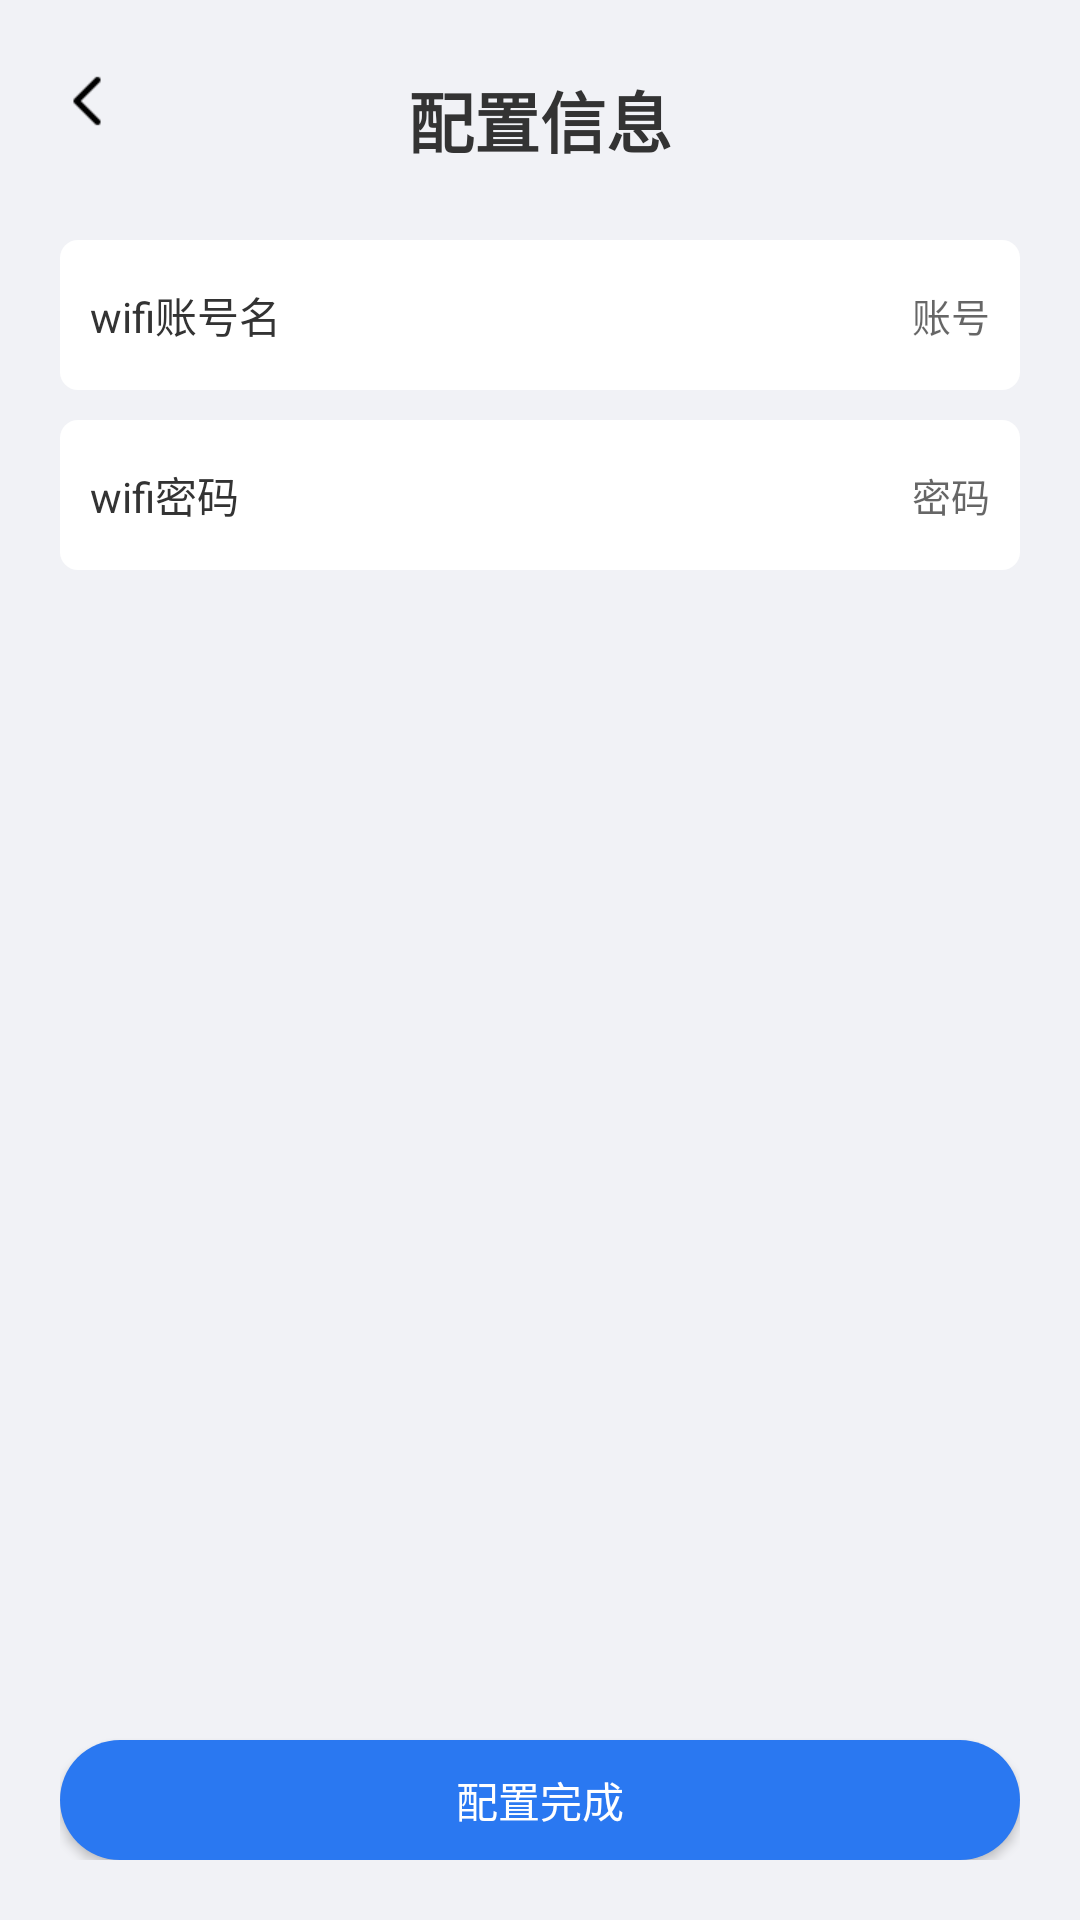

Icon bounding boxes for this 1080w x 1920h phone screenshot, format (x1, y1, x2, y2):
back: (73, 76, 101, 126)
